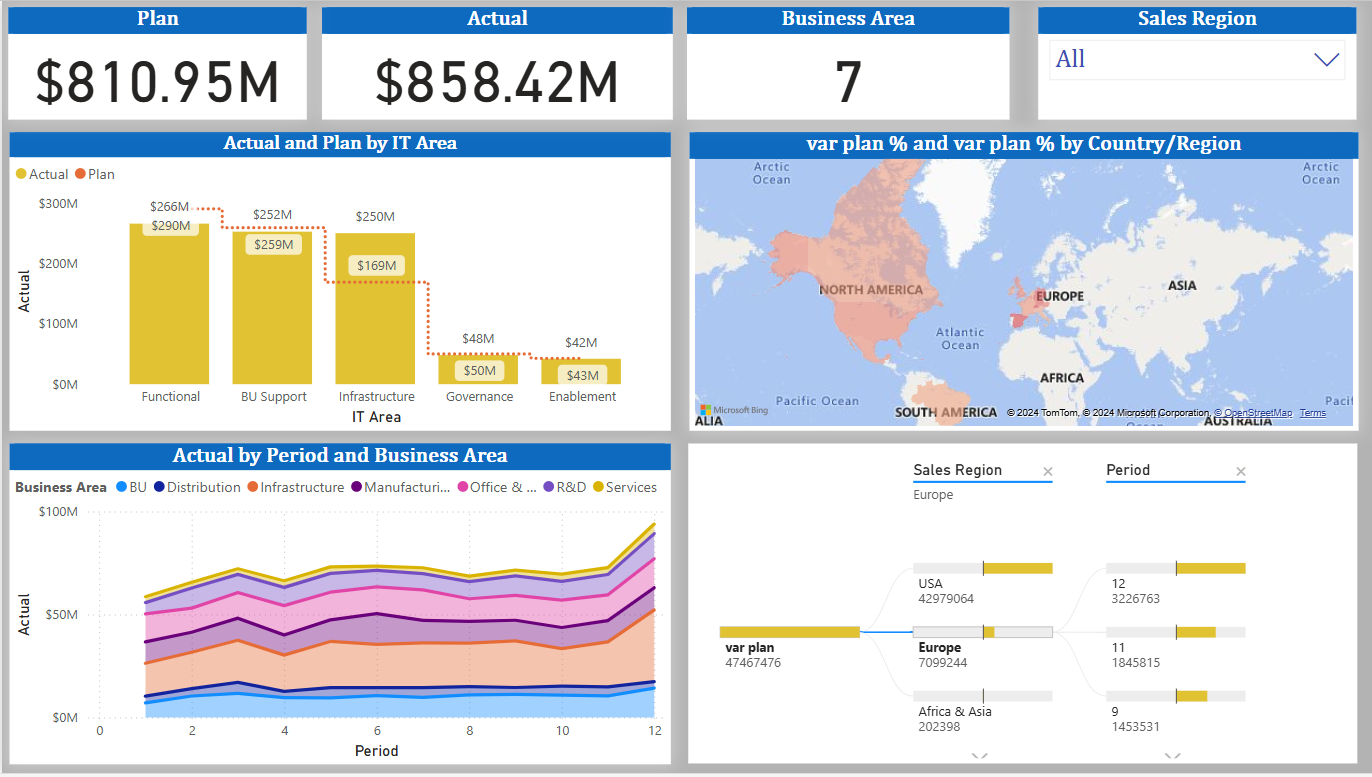

This screenshot's page, from the dashboard's own definition file:
{"tool":"powerbi","page":{"name":"Overview","canvas":[1280,720],"ordinal":0},"visuals":[{"type":"lineStackedColumnComboChart","fields":{"Category":["IT Area.IT Area"],"Y":["IT Area.Actual"],"Y2":["IT Area.Plan"]},"box":[7.2,121.9,616.5,278.7],"z":0},{"type":"card","title":"Actual","fields":{"Values":["IT Area.Actual"]},"box":[298,6,326.9,105],"z":1000},{"type":"card","title":"Plan","fields":{"Values":["IT Area.Plan"]},"box":[6,6,278.7,105],"z":2000},{"type":"slicer","title":"Sales Region","fields":{"Values":["Country Region.Sales Region"]},"box":[966.4,6,296.8,105],"z":3000},{"type":"stackedAreaChart","fields":{"Category":["Date.Period"],"Series":["Business Area.Business Area"],"Y":["IT Area.Actual"]},"box":[7.2,412.6,616.5,299.2],"z":4000},{"type":"filledMap","fields":{"Category":["Country Region.Country/Region"],"X":["IT Area.var plan %"]},"box":[640.6,121.9,623.7,278.7],"z":5000},{"type":"decompositionTreeVisual","fields":{"Analyze":["IT Area.var plan"],"ExplainBy":["Country Region.Sales Region","Date.Period"]},"box":[640,412.5,623.8,298.8],"z":6000},{"type":"card","title":"Business Area","fields":{"Values":["Count(Business Area.Business Area)"]},"box":[639.4,6,300.4,105],"z":7000}]}

Visuals, with their boxes in screenshot pixels (x1, y1, x2, y2), scaled from the page's 1280x720 canvas onto the 1372x777 screenshot:
lineStackedColumnComboChart - IT Area.IT Area x IT Area.Actual: region(8, 132, 669, 432)
"Actual" card: region(319, 6, 670, 120)
"Plan" card: region(6, 6, 305, 120)
"Sales Region" slicer: region(1036, 6, 1354, 120)
stackedAreaChart - Date.Period x Business Area.Business Area: region(8, 445, 669, 768)
filledMap - Country Region.Country/Region x IT Area.var plan %: region(687, 132, 1355, 432)
decompositionTreeVisual - IT Area.var plan x Country Region.Sales Region: region(686, 445, 1355, 768)
"Business Area" card: region(685, 6, 1007, 120)
